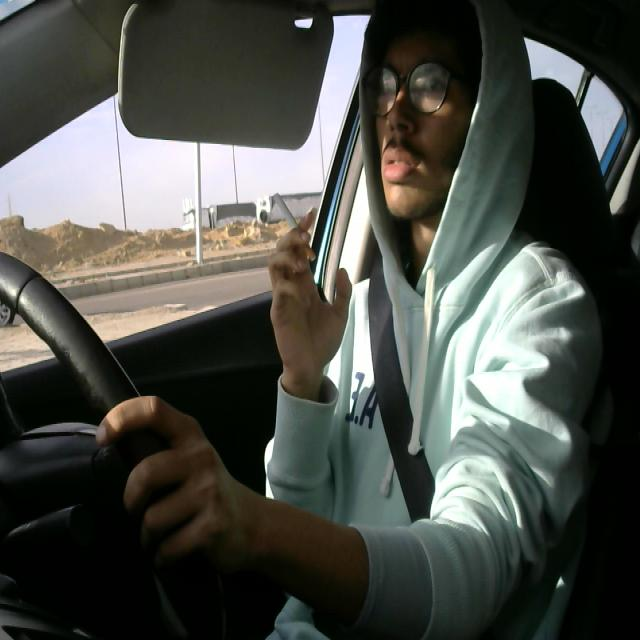smoking: (270, 180, 316, 268)
